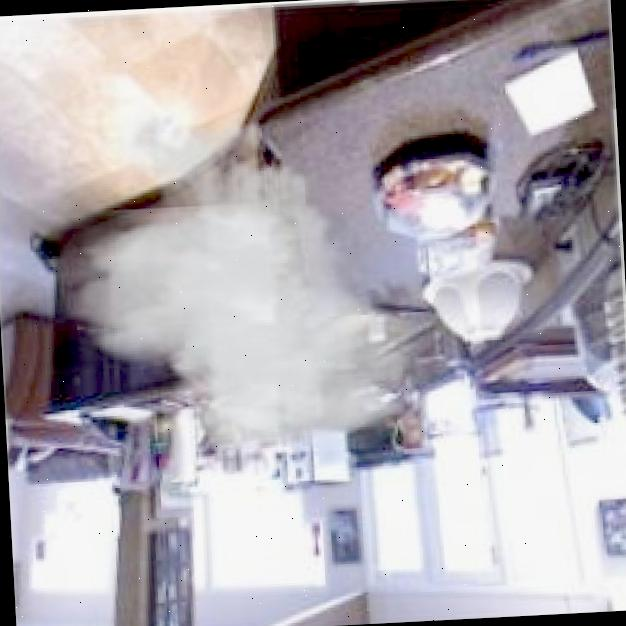smoke: (49, 88, 433, 465)
